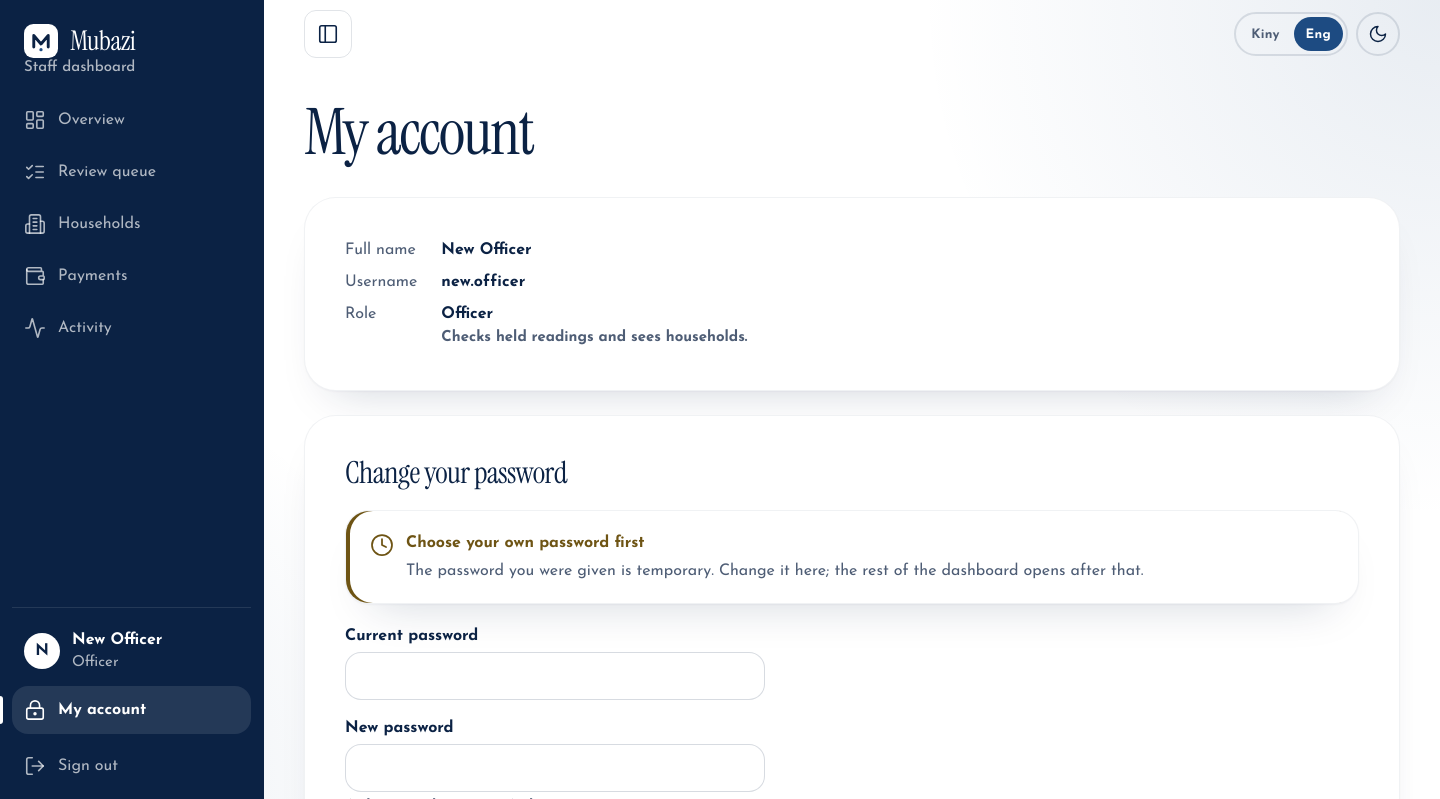
it: MyAccount › when the password is changed, should keep the session with the new token and open the dashboard
The width and height of the screenshot is (1440, 799).
Type "k7mq-x3vd-9tpa" into the password field labelled "Current password" at (555, 676), box [345,652,765,700]
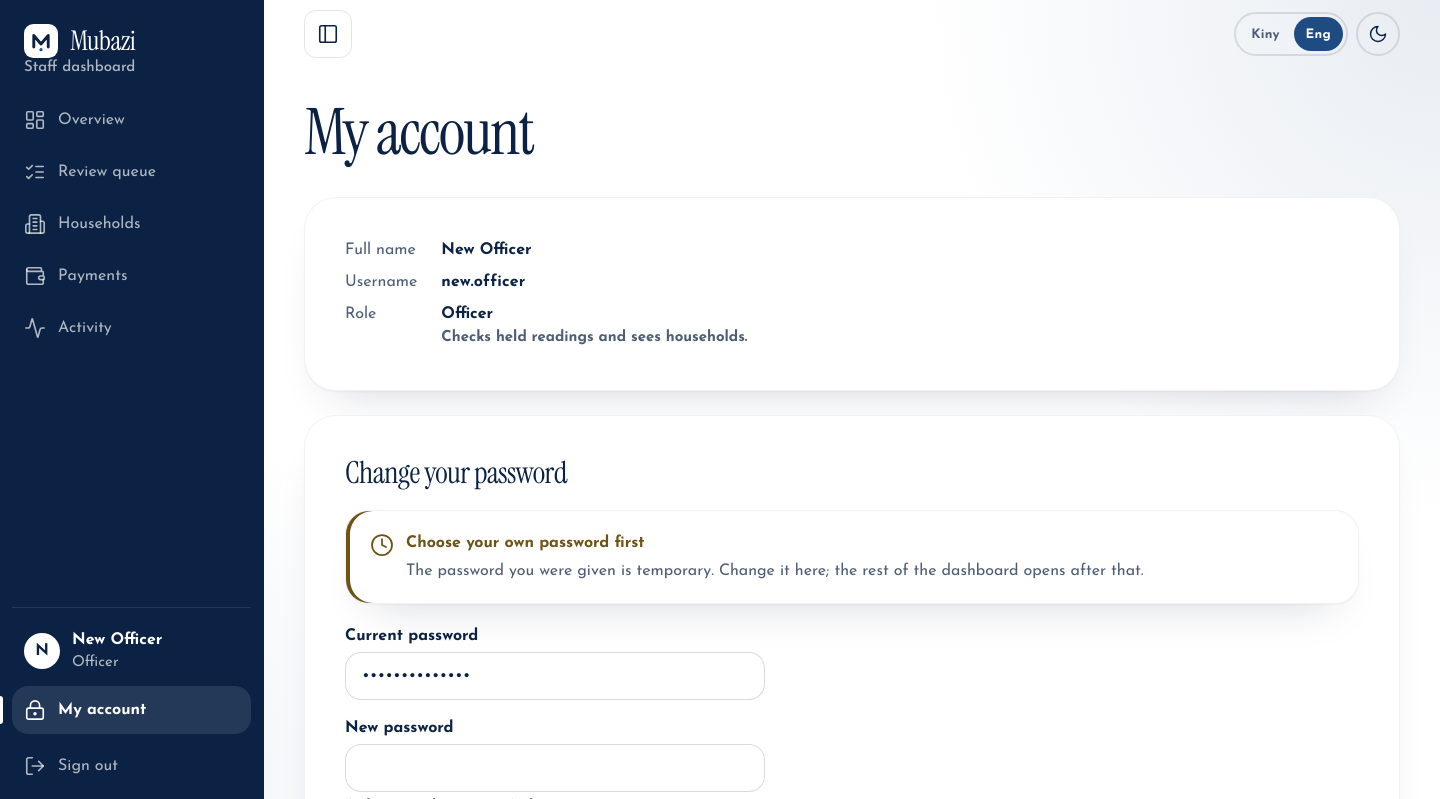
Type "my own password" into the password field labelled "New password" at (555, 768), box [345,744,765,792]
(page scrolled)
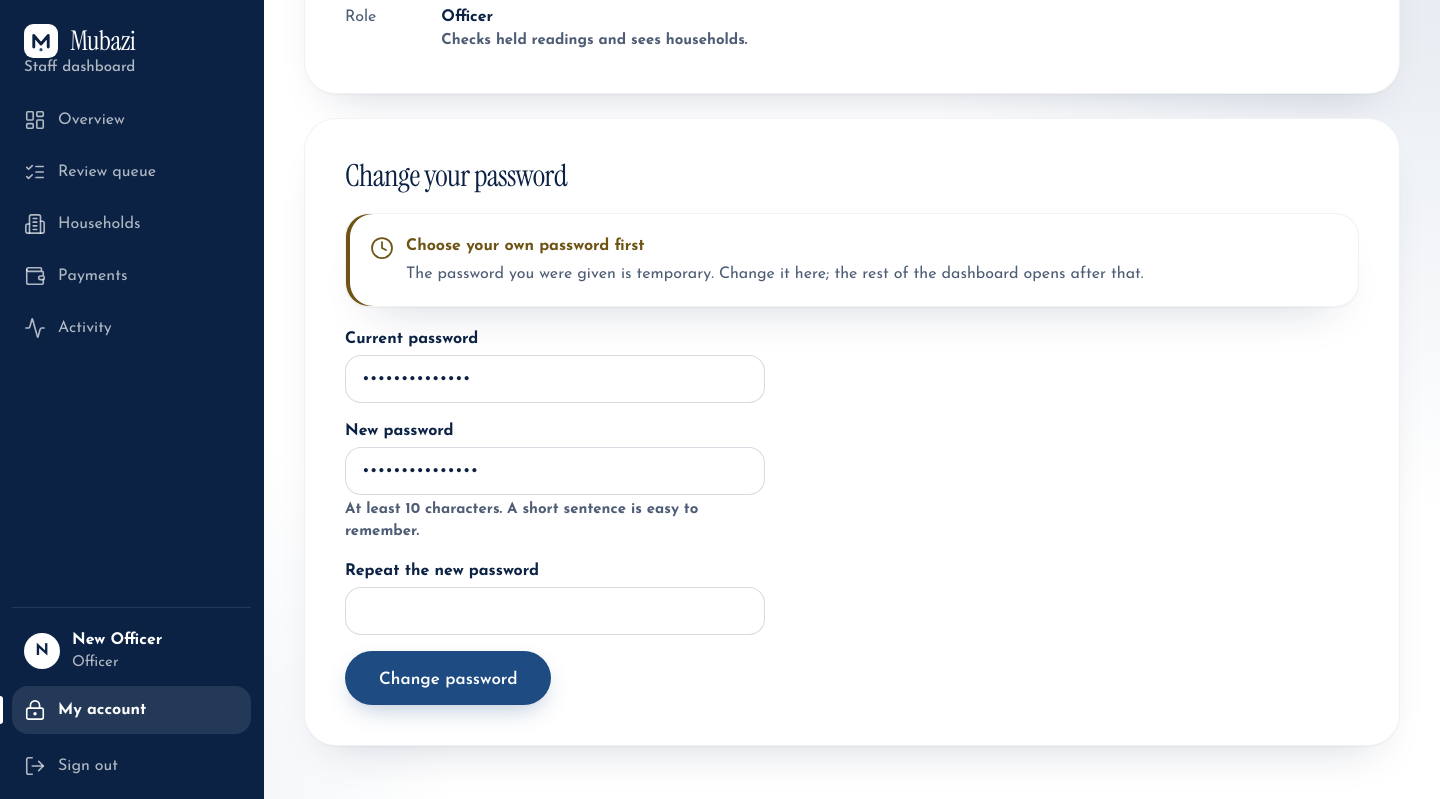
Type "my own password" into the password field labelled "Repeat the new password" at (555, 611), box [345,587,765,635]
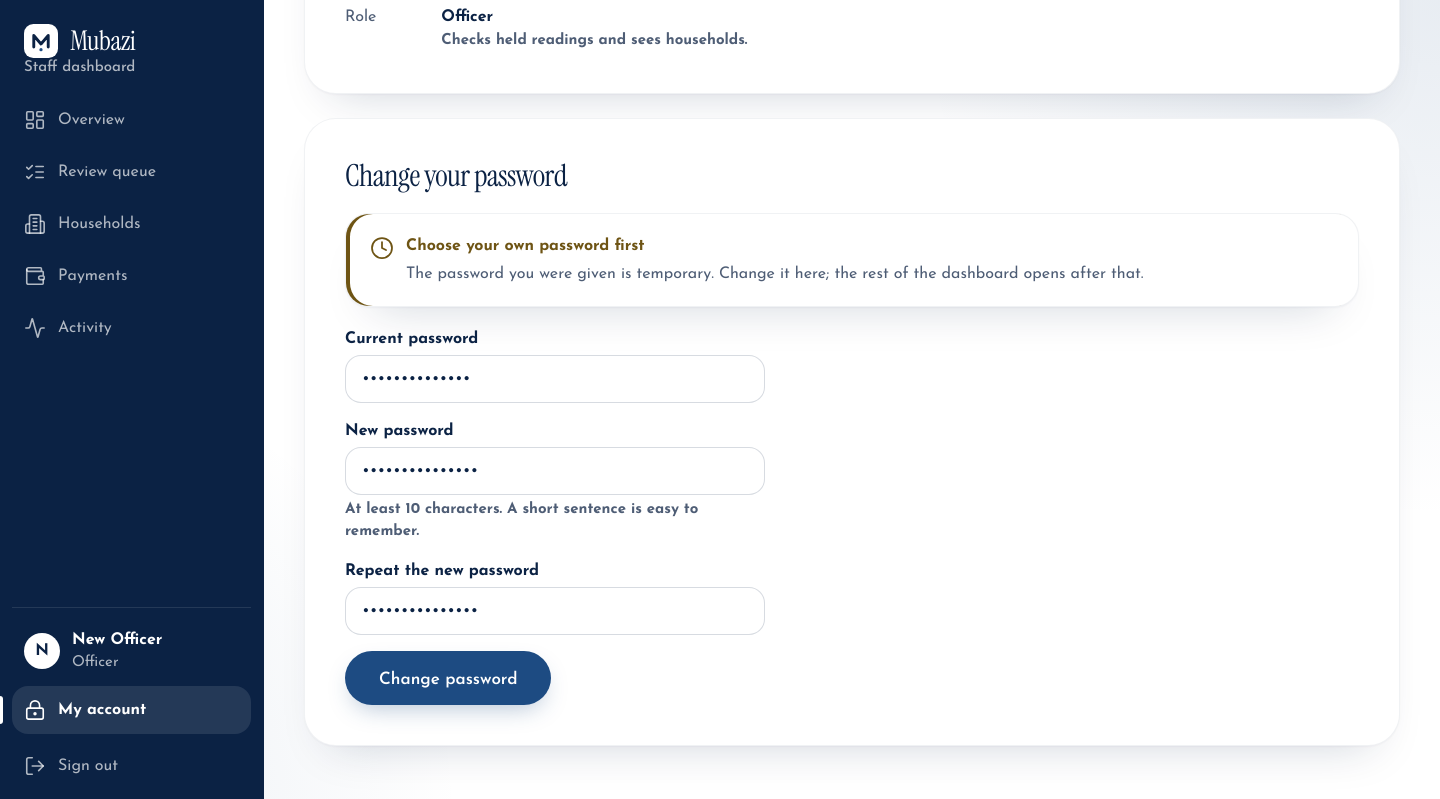
Click the button "Change password" at (448, 678), box [345,651,551,705]
(page scrolled)
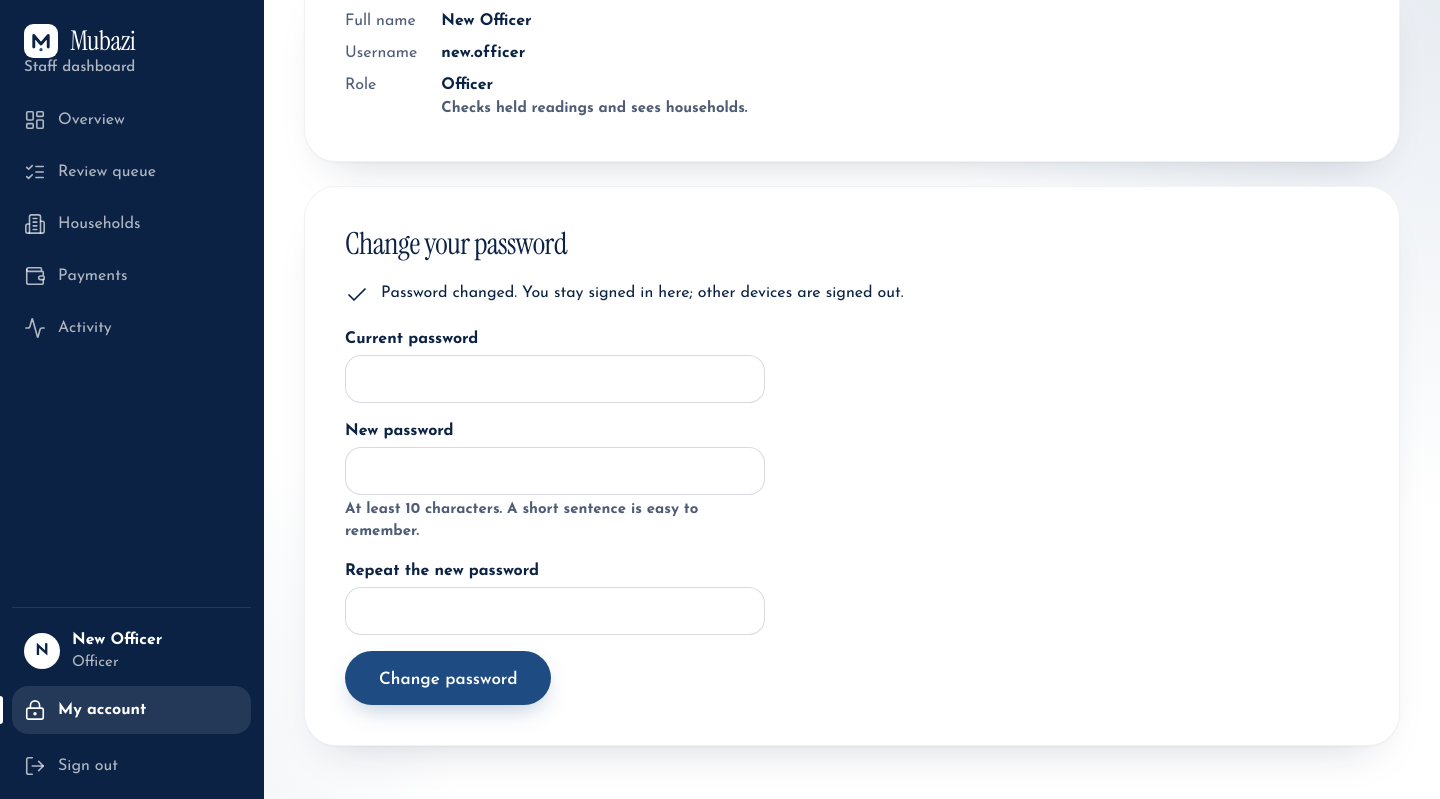
Expected: the text "Password changed" is shown, [381,285,904,301]
Expected: the text "Choose your own password first" is gone
